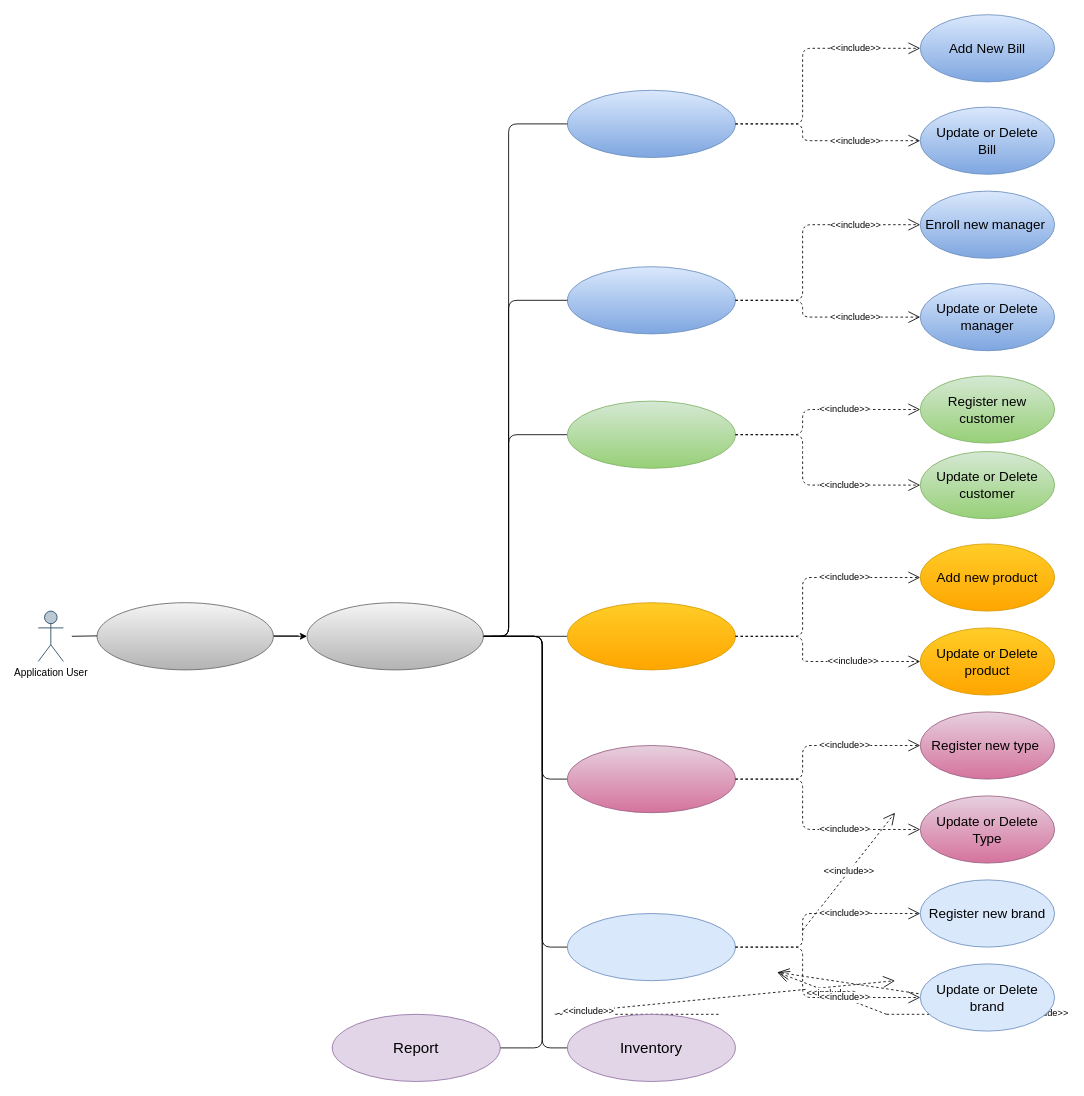
The diagram is 1084 pixels wide and 1096 high, and some of its shapes have lost their labels. Each missing label, with the box of its shape:
Admin Home Page: (306, 602, 483, 670)
Bill and Bill Detail: (567, 89, 735, 158)
Brand: (567, 913, 735, 981)
Customer: (567, 400, 735, 468)
Log In: (96, 602, 273, 670)
Manager: (567, 266, 735, 334)
Product List: (567, 602, 735, 670)
Product Type: (567, 745, 735, 813)
